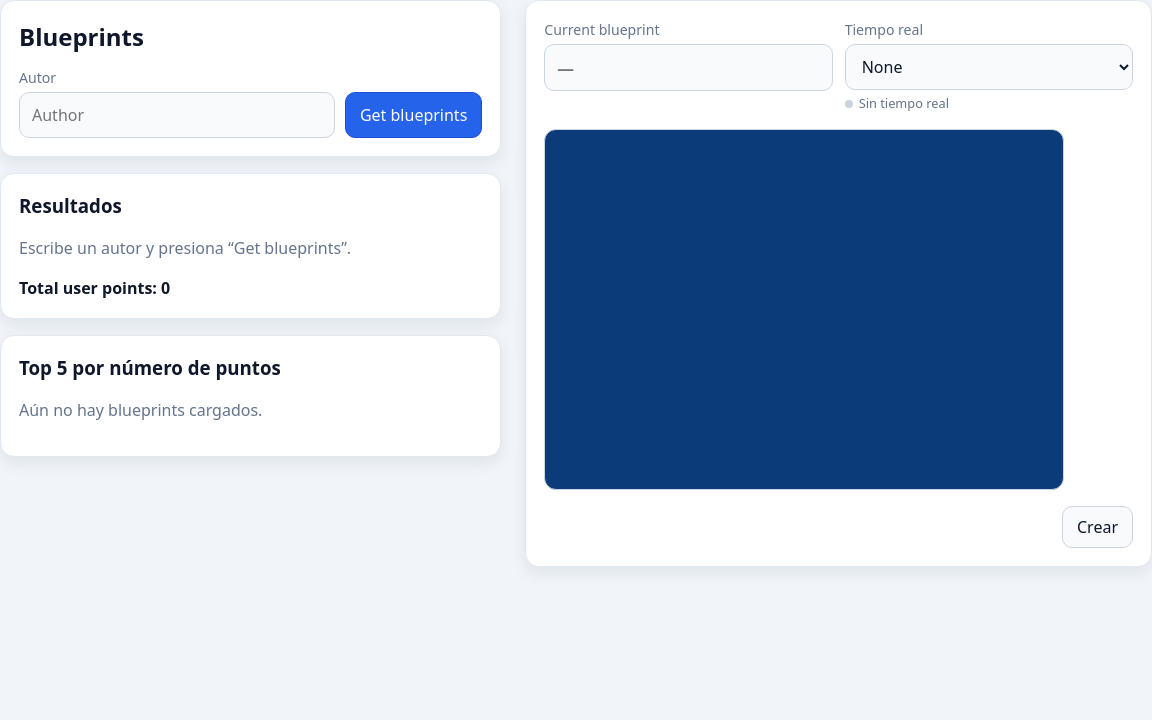
Test: BlueprintsPage › muestra "Sin resultados" si el autor no tiene planos
Type "nadie" into the field with placeholder "Author". click: (177, 115)
box: [19,92,335,138]
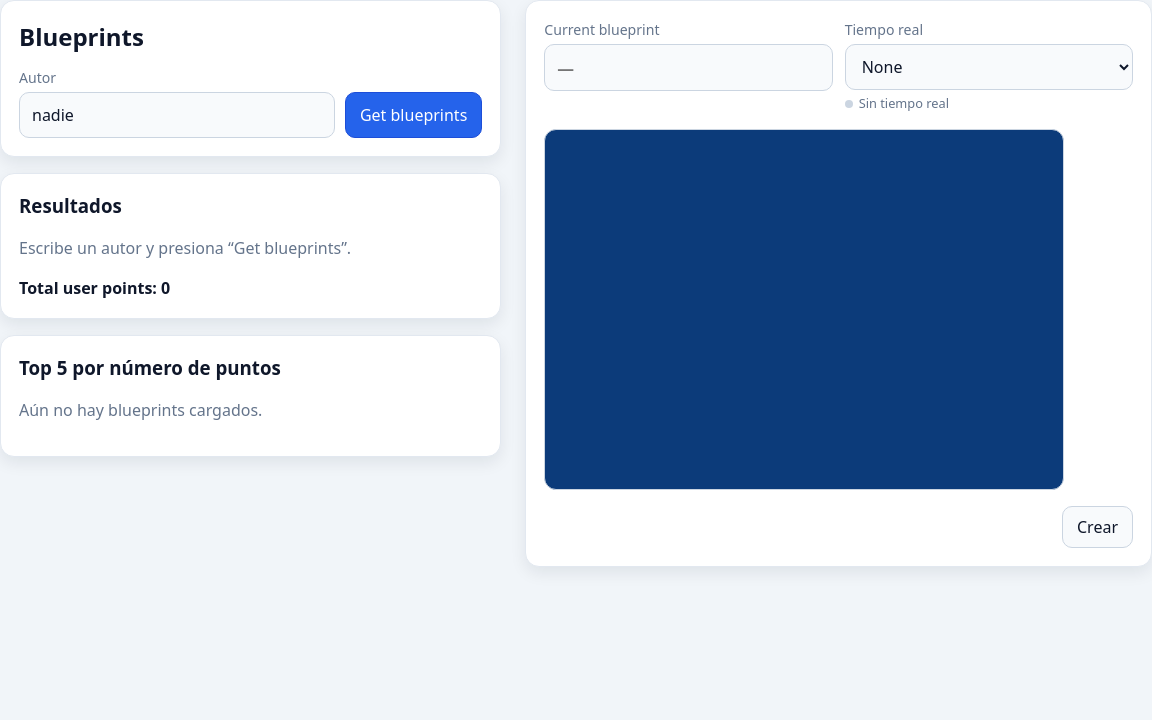
Click the button "Get blueprints". click: (414, 115)
box: [345,92,482,138]
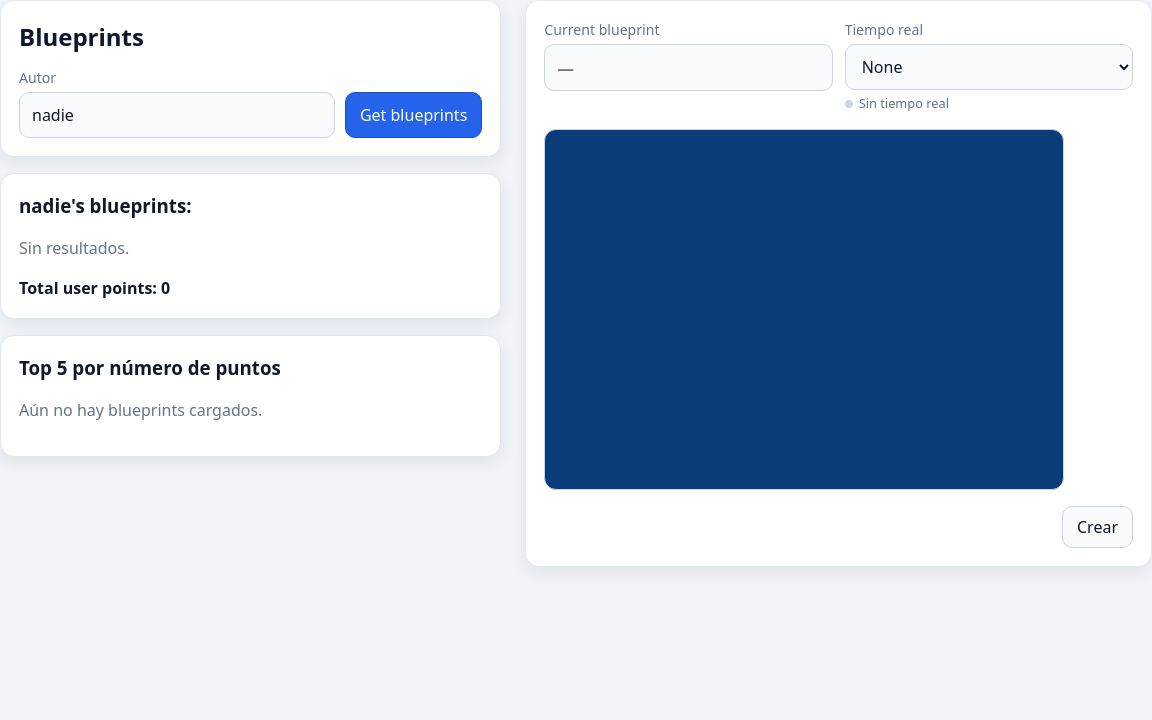
expect the text "Sin resultados." is shown: met, box [19,237,129,259]
